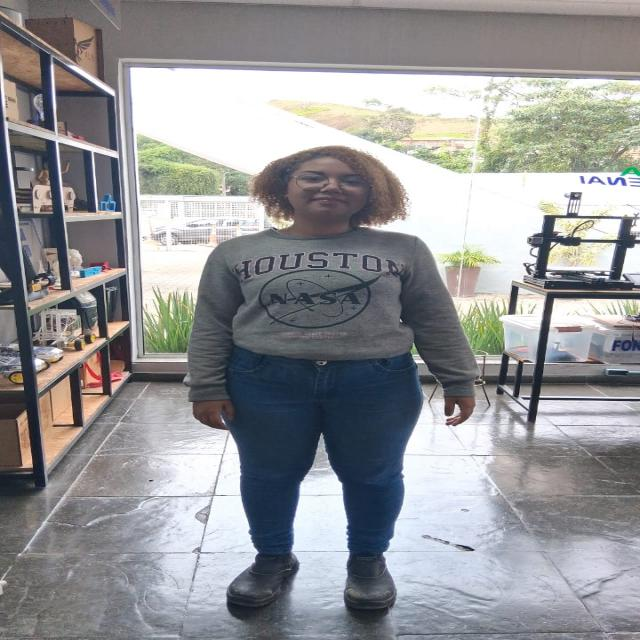BOTA: (216, 546, 303, 614), (320, 550, 404, 618)
SEM LUVA: (436, 393, 488, 434), (187, 394, 237, 434)
